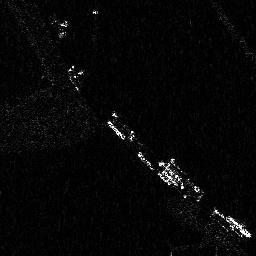ship: (156, 158, 205, 200), (107, 112, 144, 144), (213, 206, 251, 237)
